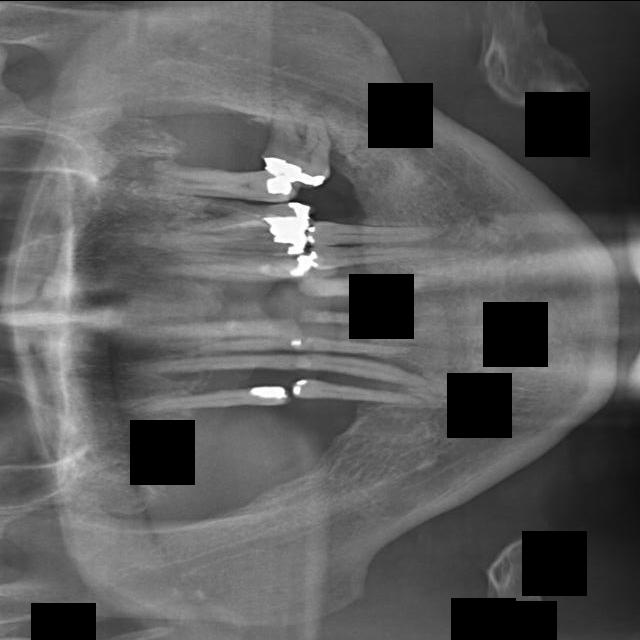Amalgam filling: (142, 255, 309, 289)
Anthogyr Implant: (170, 231, 307, 254)
Bicon Implant: (170, 196, 312, 234)
BioHorizons Implant: (144, 157, 302, 205)
Biomet 3i Implant: (253, 100, 348, 193)
Composite filling: (306, 217, 451, 246)
Cowellmedi Implant: (296, 236, 453, 272)
Crown: (296, 267, 455, 301)
Dentatus Implant: (300, 307, 414, 328)
Dentium Implant: (300, 335, 421, 359)
Euroteknika Implant: (295, 349, 432, 389)
Filling: (291, 376, 432, 417)
Mandible: (126, 383, 291, 419)
Megagen Implant: (133, 353, 297, 382)
Neodent Implant: (136, 318, 300, 354)
